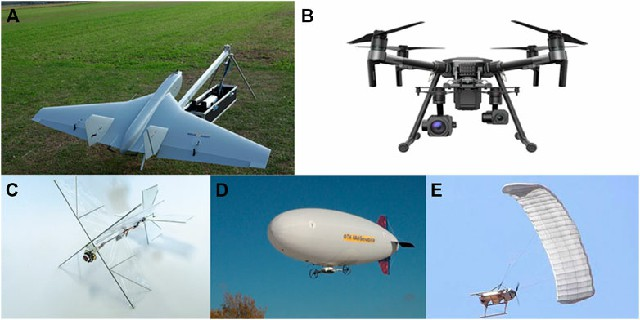maybay_khongnguoilai: (352, 21, 580, 151), (32, 71, 270, 169)
